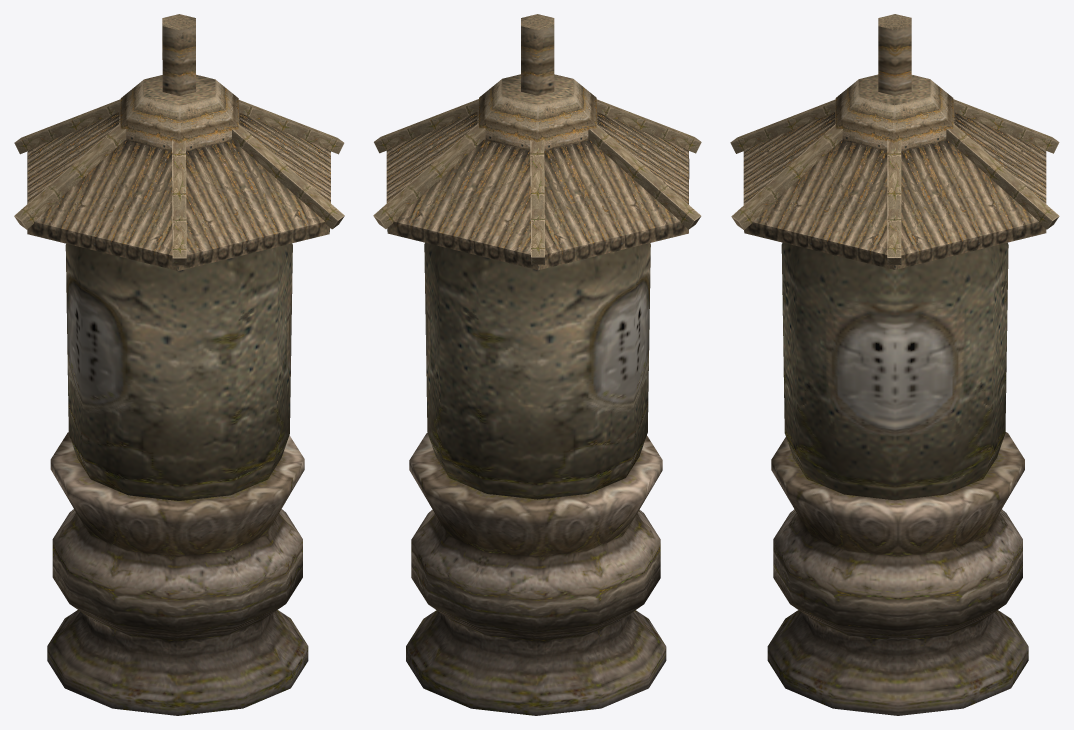
File: Hangzhou_wj_049.FBX
3 renders of one model, left to right at view 1: azimuth 30°, elevation 25°; view 2: azimuth 150°, elevation 25°; view 3: azimuth 270°, elevation 25°, orthographic.
Visible parts, largest first — view 1: Cylinder05; view 2: Cylinder05; view 3: Cylinder05.
Boxes of the visible parts, x1,y1,x2,y2 form: Cylinder05: [14, 14, 344, 715]; Cylinder05: [373, 14, 701, 715]; Cylinder05: [730, 14, 1059, 715].
Bounding box in the file's own units: 142 × 270 × 126.
Materials: 1 (1 with a texture image).
